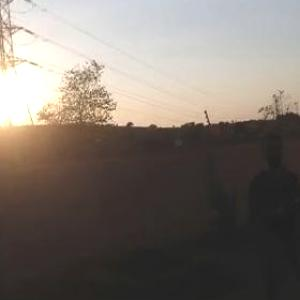follow: (242, 128, 299, 299)
